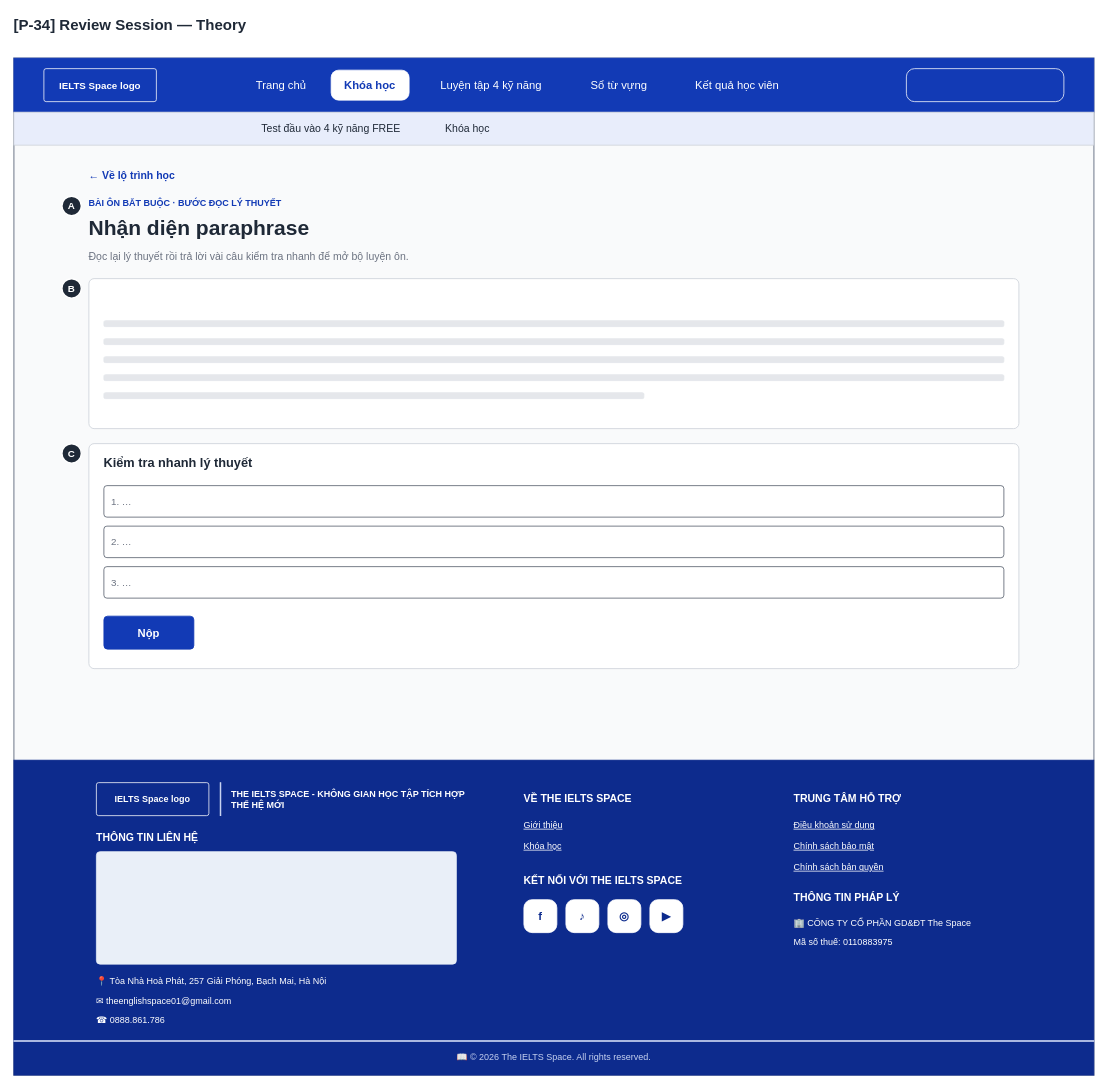
This 1107x1088 diagram has some shape labels left out. Here are the shapes that lost their labels. From the top down, the centre of each, then its label:
pixel 985 85: ◯ Học viên · 30 Points ▾
pixel 553 353: 📘 Lý thuyết cần nhớ
pixel 276 907: 📍 The IELTS Space Mở trong Maps ↗
